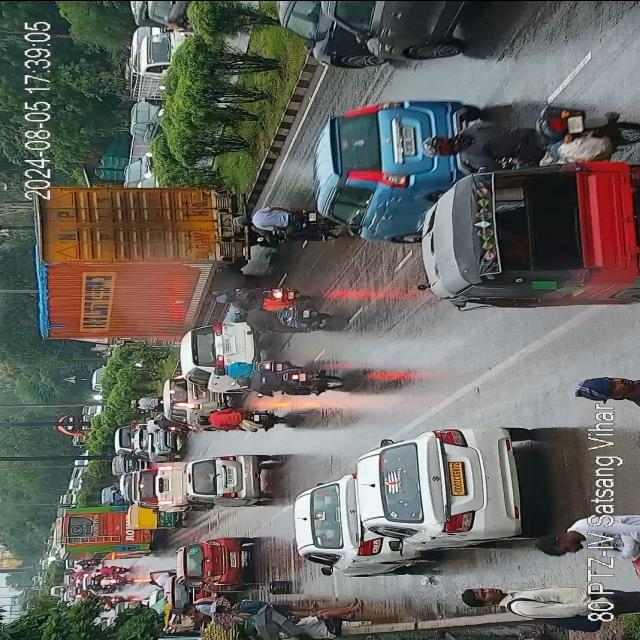2-wheelers: (423, 103, 547, 173), (214, 356, 336, 390), (235, 204, 332, 242), (57, 564, 126, 612), (224, 302, 326, 334), (208, 282, 298, 310), (196, 405, 280, 431)
auto: (419, 153, 640, 303), (137, 462, 190, 512), (130, 507, 178, 527)
bus: (62, 522, 150, 560)
car: (316, 96, 476, 240), (356, 427, 526, 551), (294, 478, 402, 574), (335, 0, 488, 66), (272, 1, 376, 68), (187, 451, 271, 510), (182, 319, 255, 386), (178, 536, 248, 593), (163, 378, 221, 422), (144, 421, 187, 460), (121, 469, 139, 504), (110, 454, 127, 474)
pedestrian: (457, 580, 564, 622), (284, 599, 366, 636), (570, 368, 630, 402), (529, 526, 585, 562), (182, 592, 252, 618), (214, 601, 280, 614)
truck: (22, 171, 260, 337), (126, 26, 187, 98)
